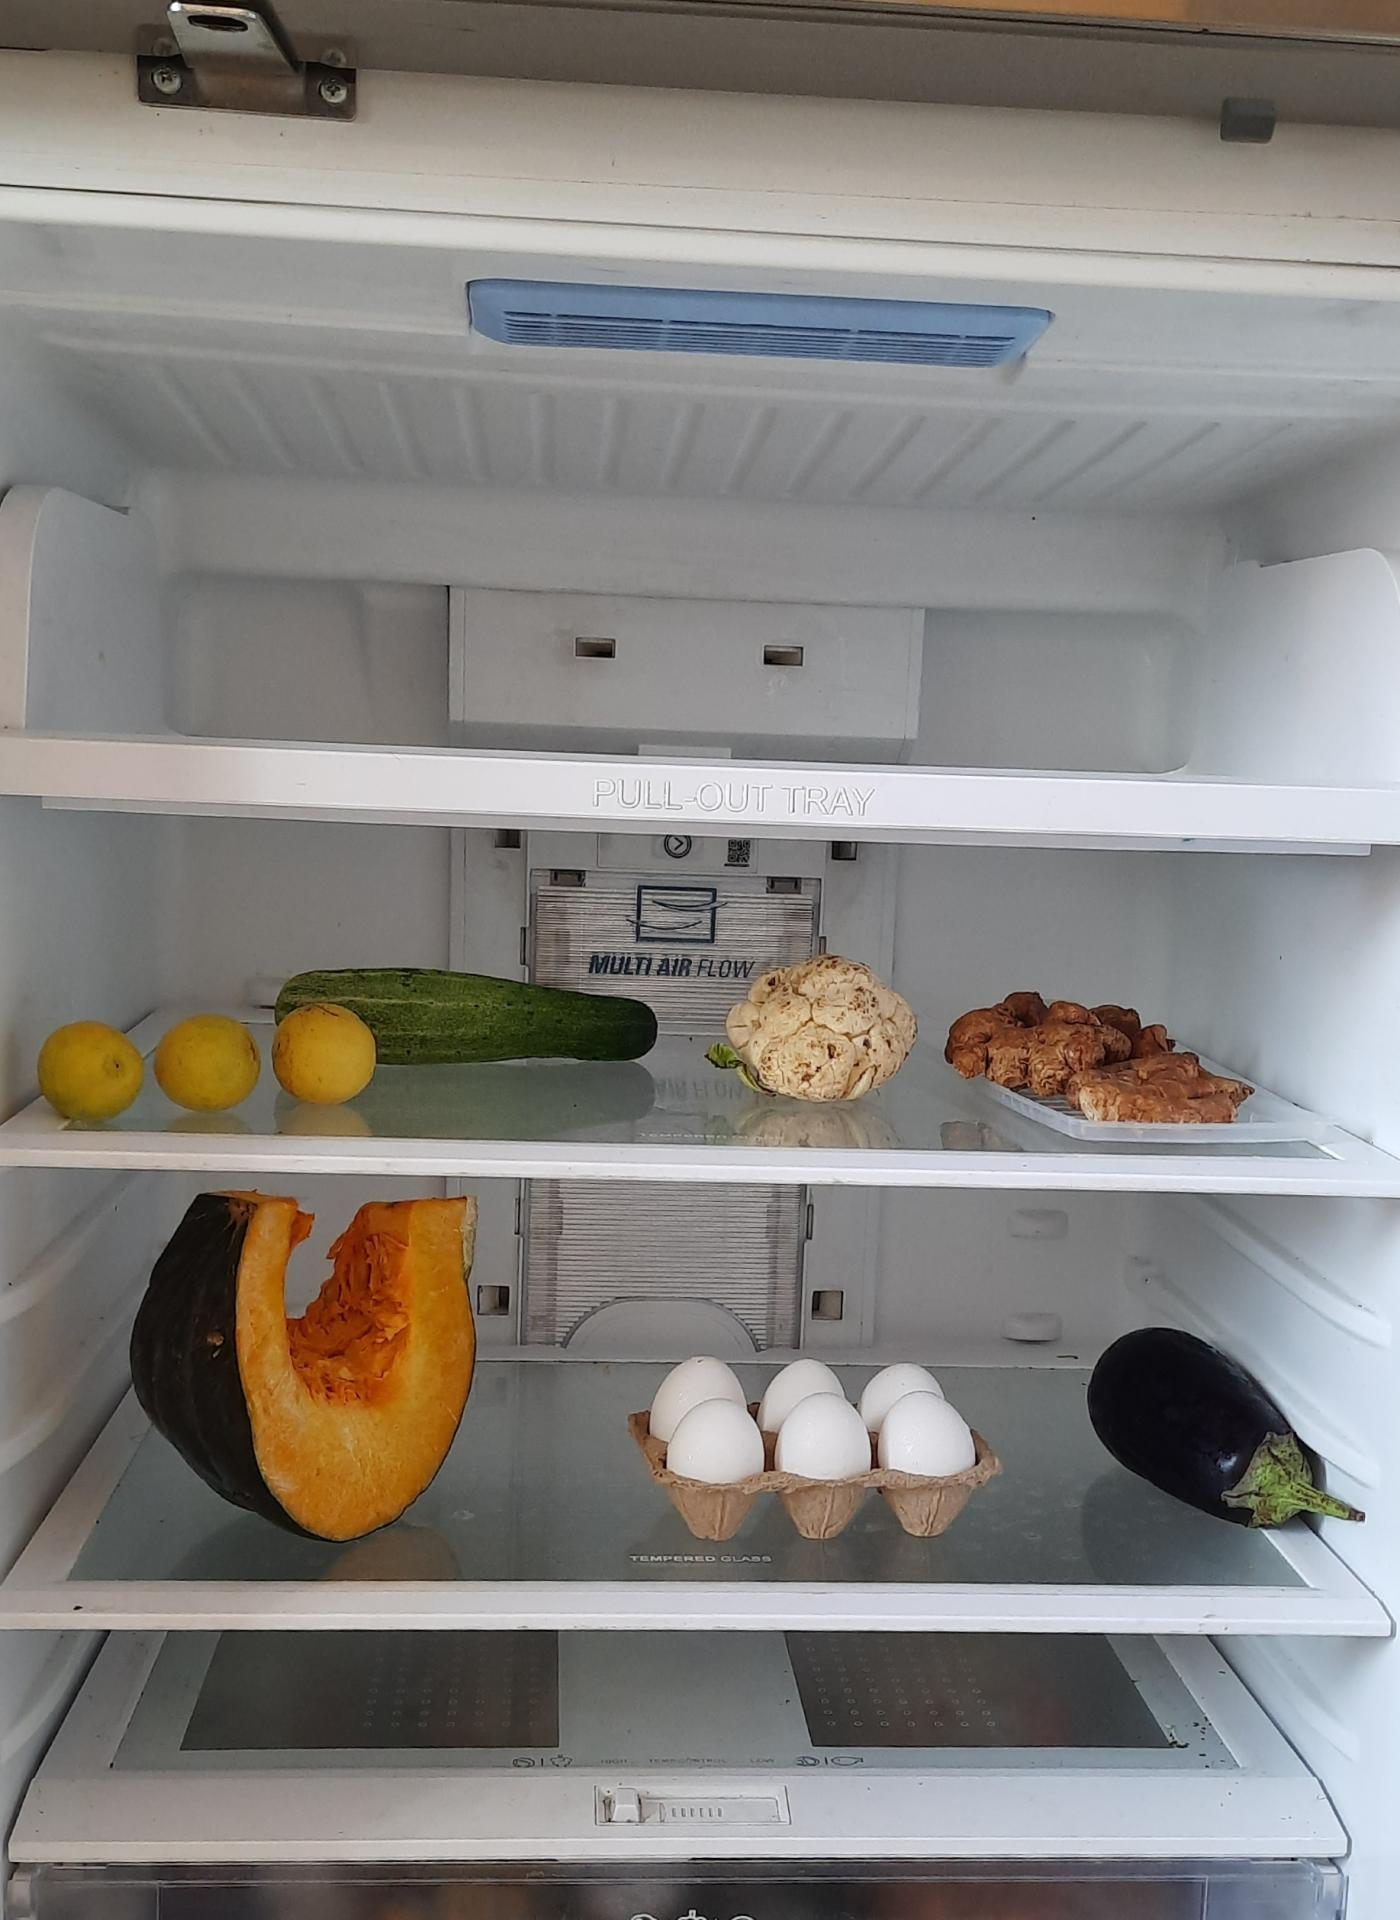brinjal: (1082, 1319, 1355, 1535)
cauliflower: (713, 948, 921, 1103)
cucumber: (280, 970, 669, 1070)
egg: (641, 1349, 984, 1526)
ginger: (954, 1003, 1266, 1139)
lemon: (39, 1011, 388, 1122)
pumpkin: (127, 1185, 483, 1540)
